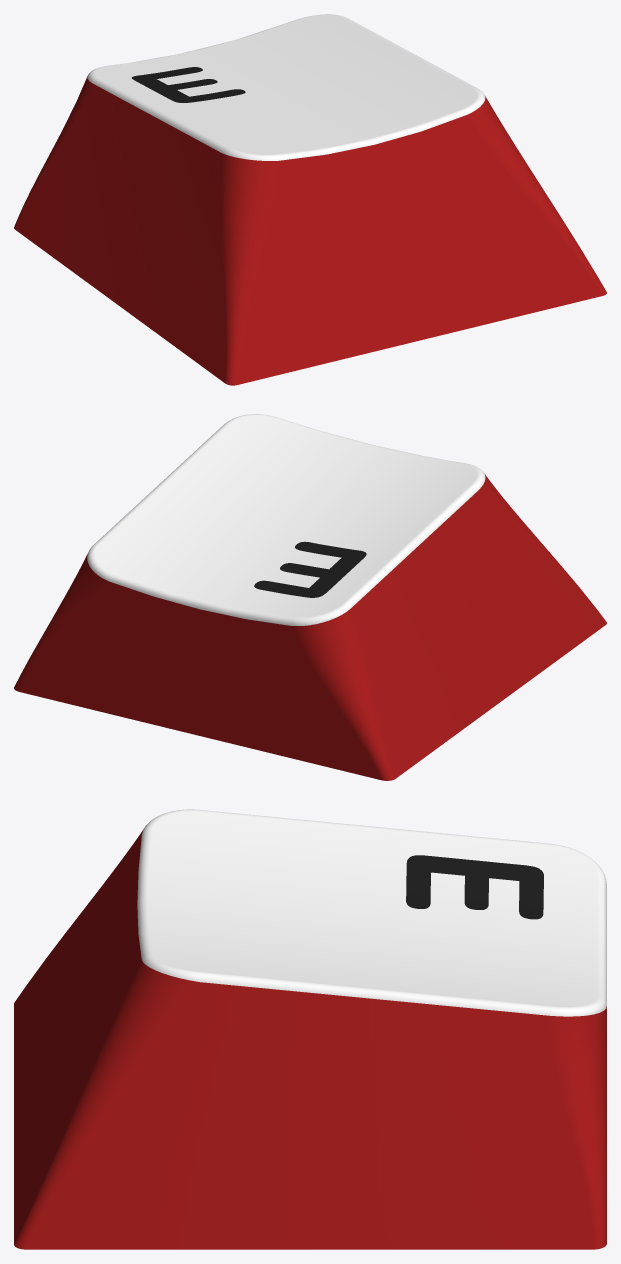
The picture shows the model from 3 angles, top to bottom: view 1: azimuth 30°, elevation 25°; view 2: azimuth 150°, elevation 25°; view 3: azimuth 270°, elevation 25°; orthographic projection. The views are drawn at different scales.
Visible parts, largest first — view 1: Body1; view 2: Body1; view 3: Body1.
Part boxes in pixels (x1=…): Body1: x1=14, y1=14, x2=606, y2=385; Body1: x1=14, y1=414, x2=606, y2=780; Body1: x1=14, y1=809, x2=606, y2=1249.
Size of the model in its own units: 18 by 7.85 by 18.
